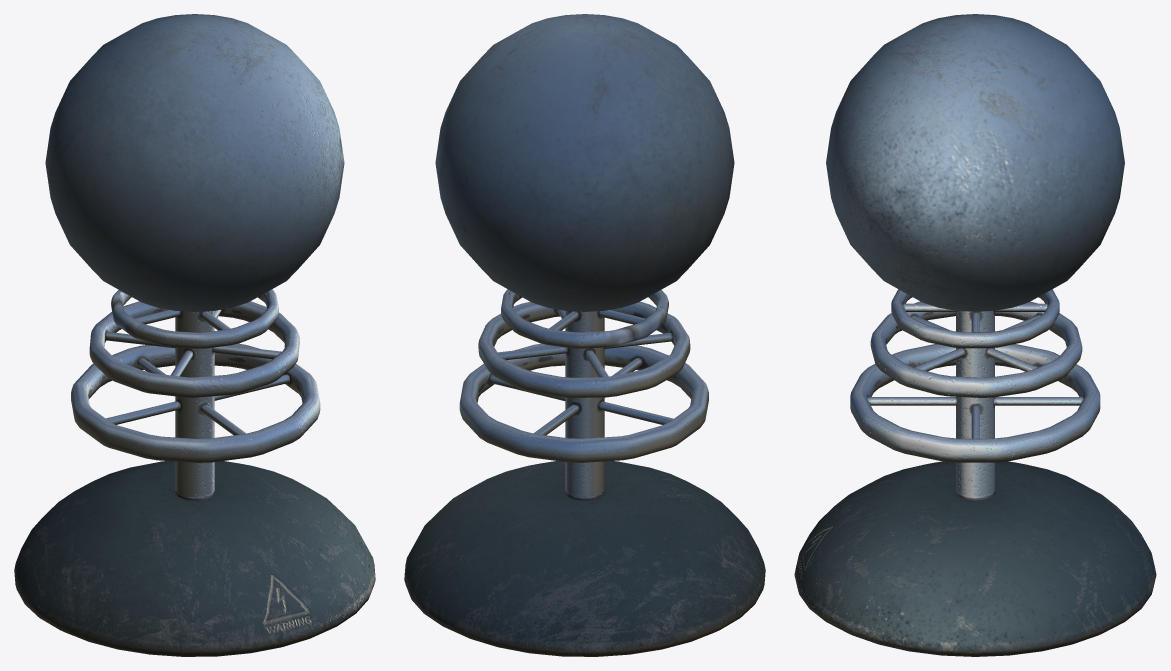
File: Obstacle-24.fbx
3 views of the same model, side by side, from view 1: azimuth 30°, elevation 25°; view 2: azimuth 150°, elevation 25°; view 3: azimuth 270°, elevation 25° (orthographic).
Parts seen in each view (by area): view 1: Obstacle-24; view 2: Obstacle-24; view 3: Obstacle-24.
Part boxes in pixels (x1=…): Obstacle-24: x1=14, y1=14, x2=375, y2=656; Obstacle-24: x1=404, y1=14, x2=765, y2=656; Obstacle-24: x1=794, y1=14, x2=1156, y2=656.
Bounding box in the file's own units: 1.18 × 2 × 1.18.
